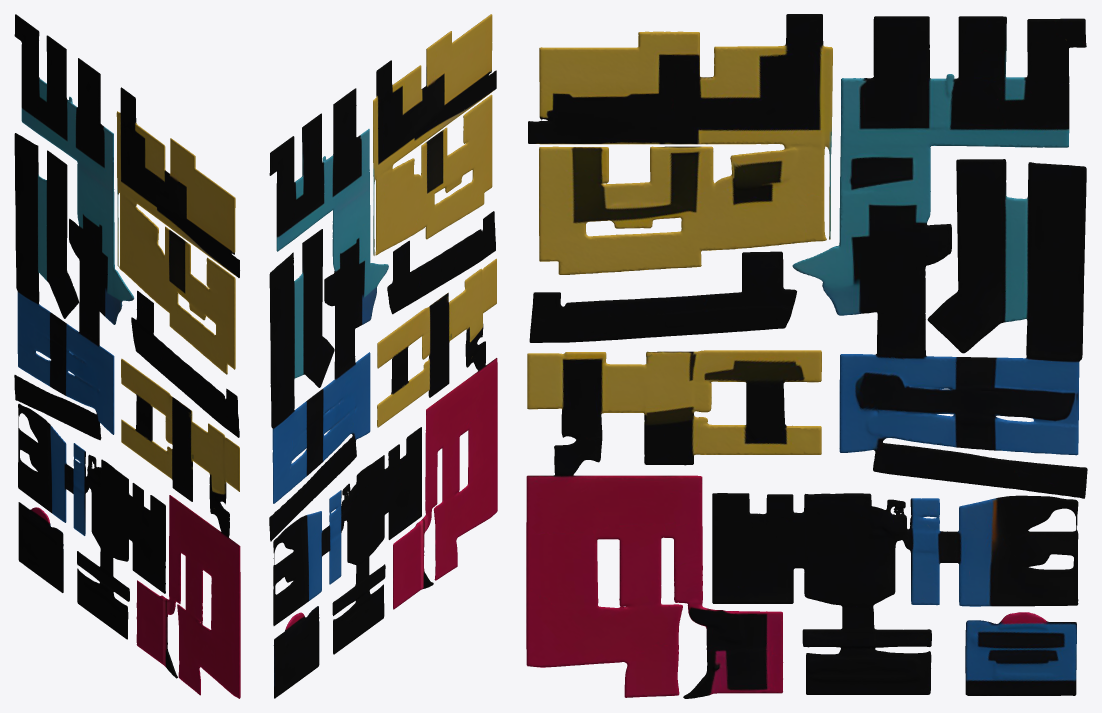
The model's file is movie_poster_modern.glb.
3 renders of one model, left to right at view 1: azimuth 30°, elevation 25°; view 2: azimuth 150°, elevation 25°; view 3: azimuth 270°, elevation 25°, orthographic. The views are drawn at different scales.
Parts seen in each view (by area): view 1: tripo_node_7ab21dfb-69c2-4121-b876-956d2a1a1f9a; view 2: tripo_node_7ab21dfb-69c2-4121-b876-956d2a1a1f9a; view 3: tripo_node_7ab21dfb-69c2-4121-b876-956d2a1a1f9a.
Boxes of the visible parts, left/top/right/bottom form: tripo_node_7ab21dfb-69c2-4121-b876-956d2a1a1f9a: left=14, top=14, right=240, bottom=698; tripo_node_7ab21dfb-69c2-4121-b876-956d2a1a1f9a: left=269, top=14, right=497, bottom=698; tripo_node_7ab21dfb-69c2-4121-b876-956d2a1a1f9a: left=526, top=14, right=1087, bottom=698.
Bounding box in the file's own units: 0.00867 × 1 × 0.743.
1 material, 1 textured.
